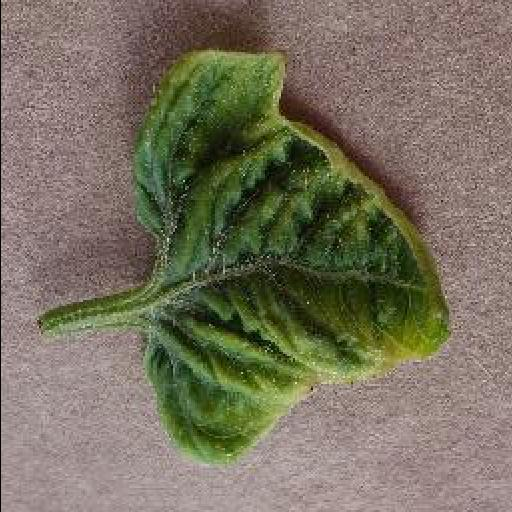disease_tomato: (128, 46, 454, 474)
